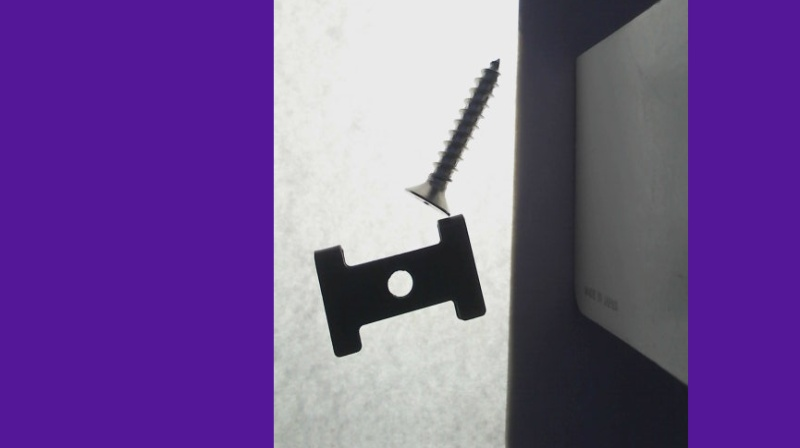O002: (312, 211, 485, 360)
S001: (405, 54, 502, 216)
